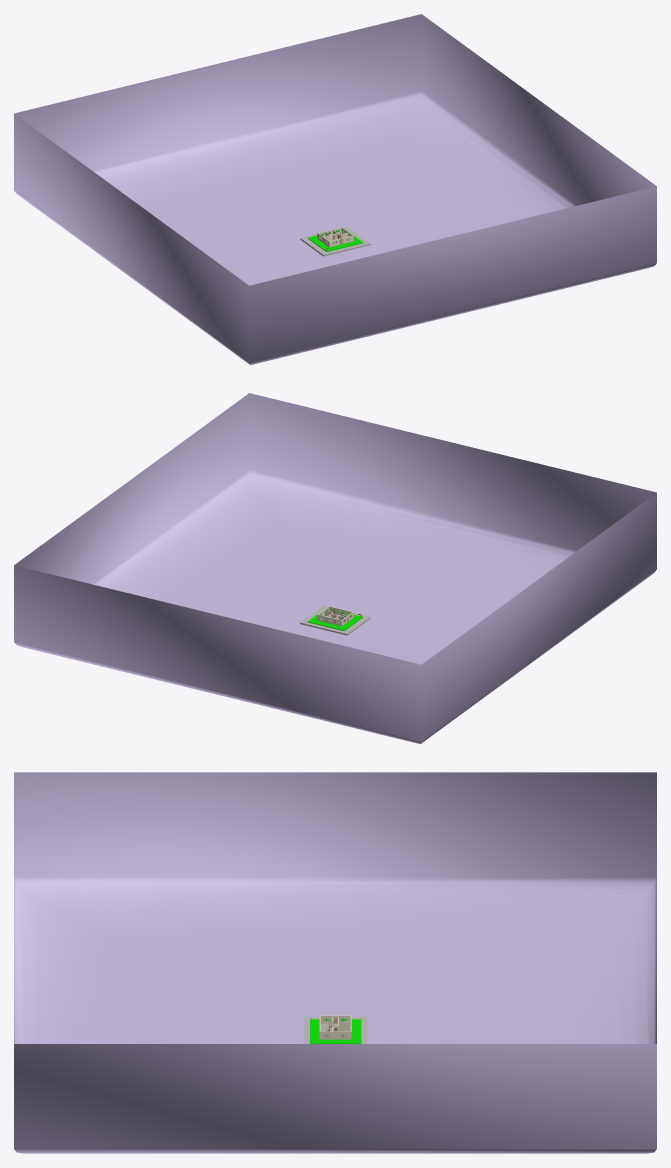
File: House1F.glb
3 renders of one model, top to bottom at view 1: azimuth 30°, elevation 25°; view 2: azimuth 150°, elevation 25°; view 3: azimuth 270°, elevation 25°, orthographic. The views are drawn at different scales.
Parts seen in each view (by area): view 1: BG, Boarder; view 2: BG, Boarder; view 3: BG, IfcSite/Gelaende.
Part boxes in pixels (bbox=[...]): BG: bbox=[14, 14, 656, 364]; Boarder: bbox=[300, 226, 370, 256]; BG: bbox=[14, 393, 656, 743]; Boarder: bbox=[300, 605, 370, 635]; BG: bbox=[14, 772, 656, 1153]; IfcSite/Gelaende: bbox=[310, 1019, 361, 1043].
Bounding box in the file's own units: 200 × 43.33 × 200.
